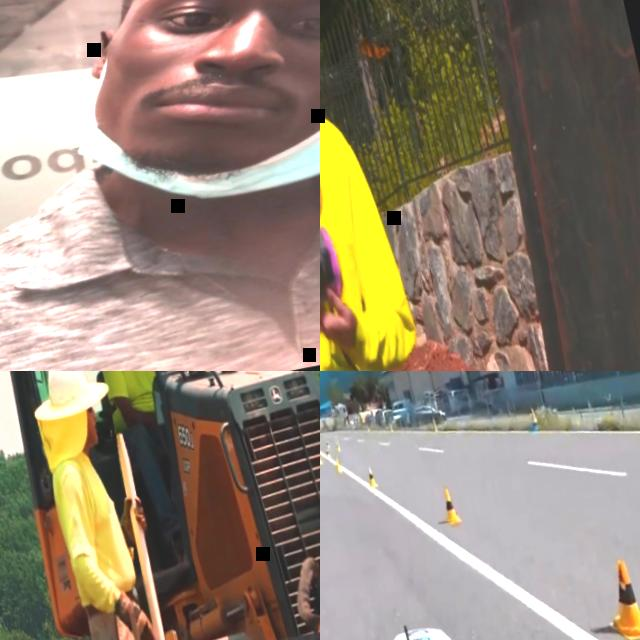Mask: (320, 207, 352, 331)
NO-Hardhat: (35, 371, 93, 419)
NO-Mask: (85, 5, 320, 192), (83, 416, 99, 444)
NO-Safety Vest: (0, 99, 320, 371), (320, 83, 410, 371), (43, 444, 140, 606), (88, 371, 163, 427)
Person: (0, 0, 320, 371), (320, 0, 453, 371), (20, 371, 175, 640), (79, 371, 195, 560)
Safety Cone: (595, 549, 640, 640), (436, 480, 461, 526), (363, 462, 379, 490), (527, 405, 540, 429), (331, 453, 342, 474), (430, 415, 437, 432), (333, 437, 340, 452), (387, 419, 394, 432), (324, 446, 330, 460), (364, 423, 369, 431), (320, 449, 322, 465)
vehicle: (0, 371, 320, 640), (320, 568, 640, 640)
